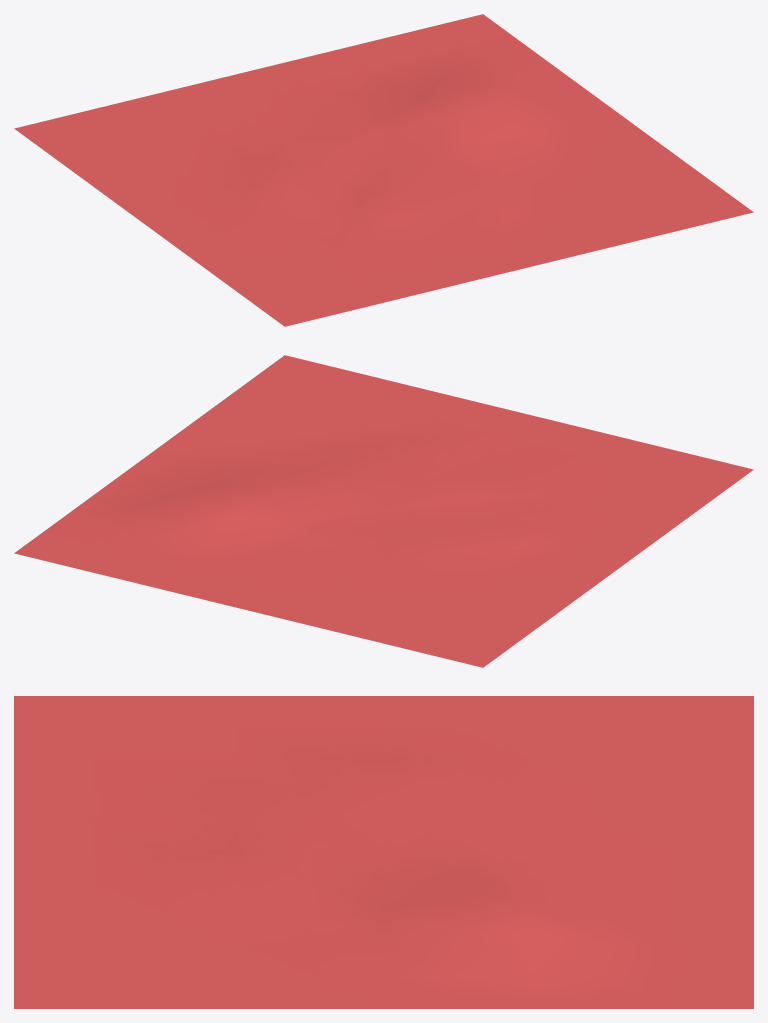
The model's file is CaveCollision.glb.
3 renders of one model, top to bottom at view 1: azimuth 30°, elevation 25°; view 2: azimuth 150°, elevation 25°; view 3: azimuth 270°, elevation 25°, orthographic. The views are drawn at different scales.
Visible parts, largest first — view 1: CaveCollision; view 2: CaveCollision; view 3: CaveCollision.
Part boxes in pixels (box(x1,y1,x2,y2)): CaveCollision: box(14, 14, 753, 326); CaveCollision: box(14, 355, 753, 667); CaveCollision: box(14, 696, 753, 1008).
Bounding box in the file's own units: 4000 × 86.55 × 4000.
